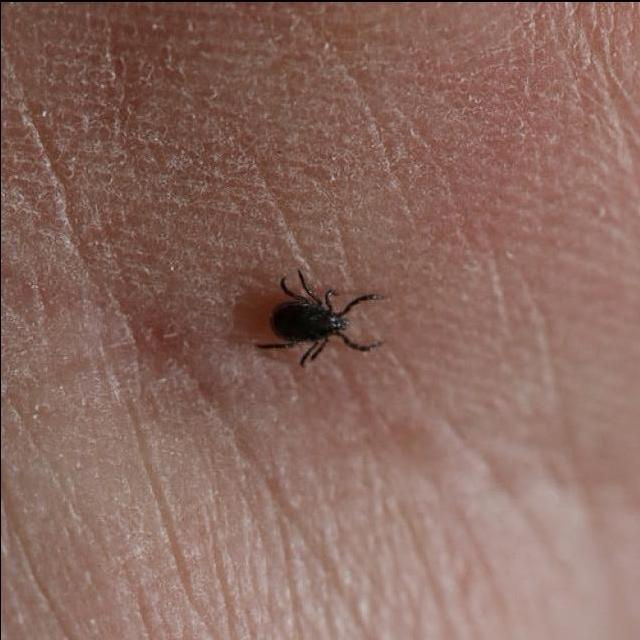Ixodes Ricinus-M: (255, 268, 384, 366)
